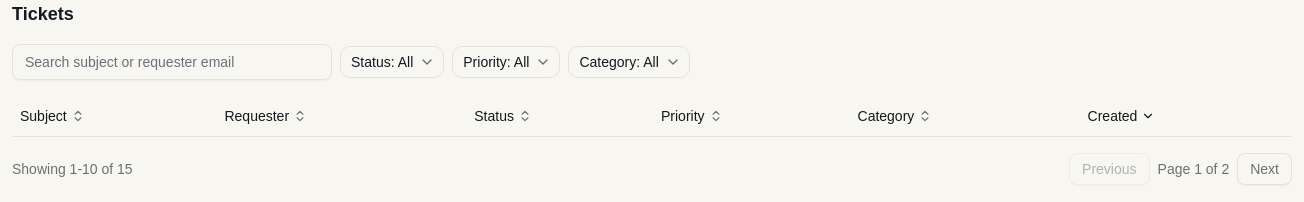
Test: TicketsPage › requests the next page when Next is clicked, and disables Next on the last page
Check: the table is shown, box [12,96,1292,136]
Click the button "Next" at point(1265, 168), box [1237,152,1292,184]
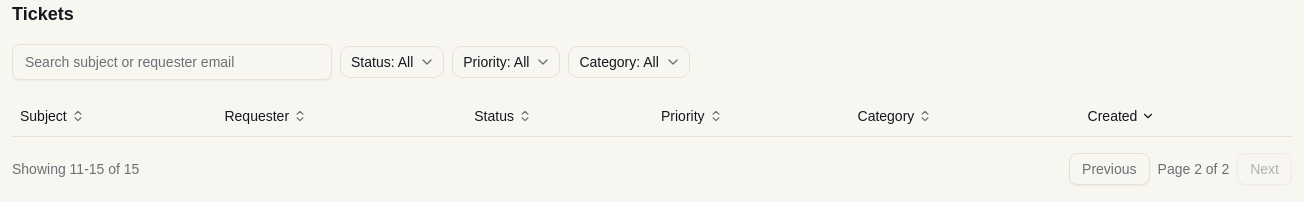
Check: the text "Page 2 of 2" is shown, box [1158,158,1229,178]
Check: the button "Next" is disabled, box [1237,152,1292,184]
